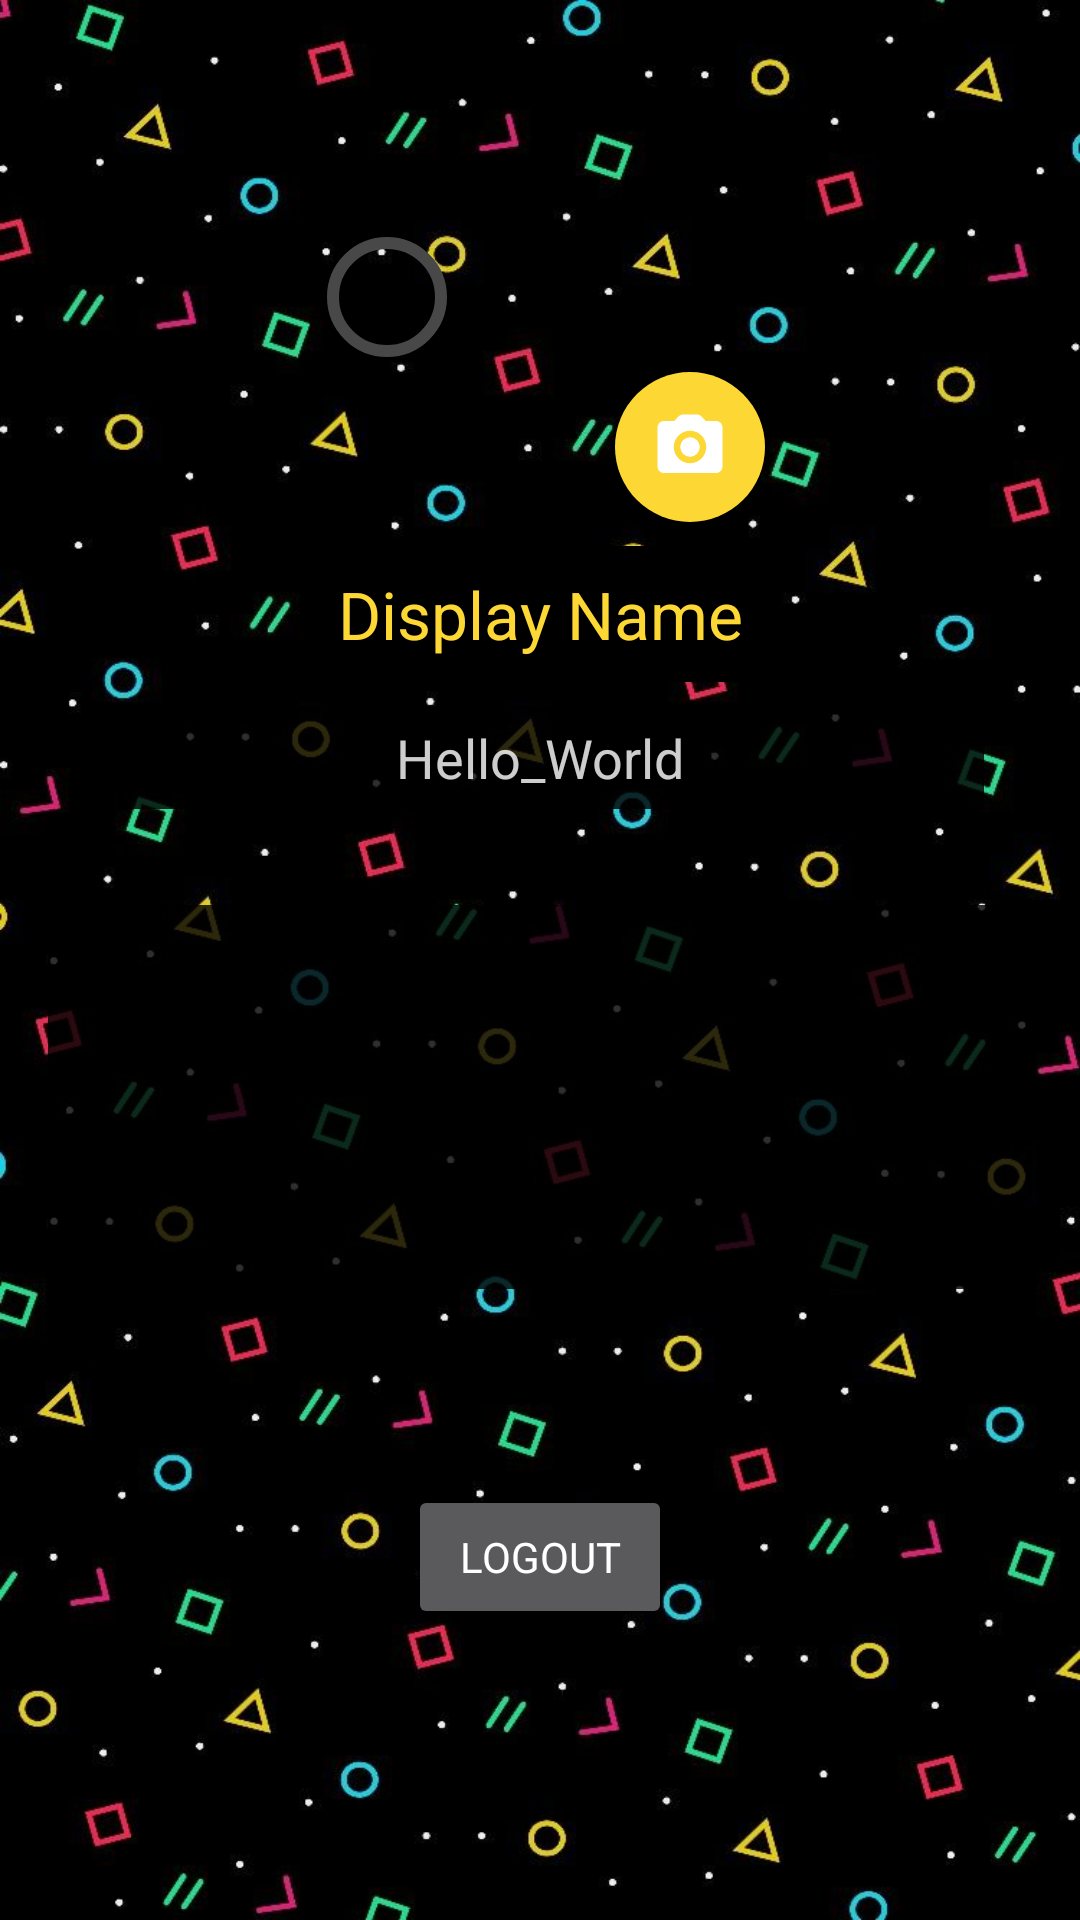

Locate icon controls on the screen. Image size 1080 x 1920, boxes as {"x1": x1, "y1": y1, "x2": x2, "y2": y2}.
photo: {"x1": 615, "y1": 372, "x2": 765, "y2": 522}
